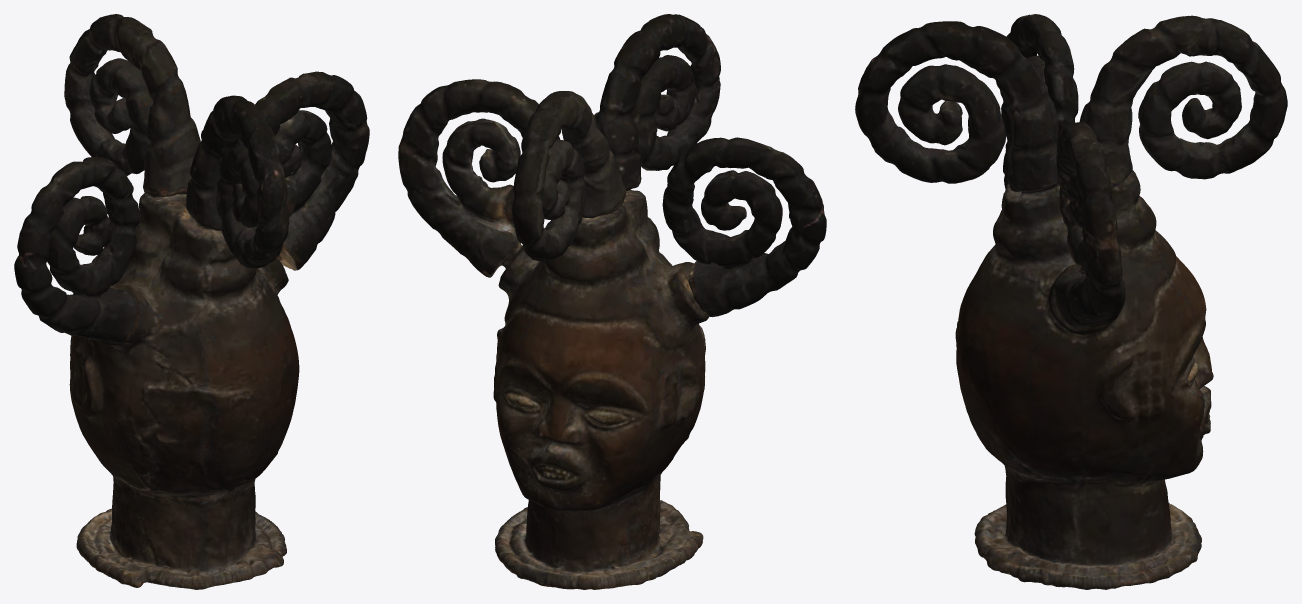
Rendered from preview.glb.
3 views of the same model, side by side, from view 1: azimuth 30°, elevation 25°; view 2: azimuth 150°, elevation 25°; view 3: azimuth 270°, elevation 25° (orthographic). The views are drawn at different scales.
Parts seen in each view (by area): view 1: Object_2; view 2: Object_2; view 3: Object_2.
Part boxes in pixels (x1,y1,x2,y2): Object_2: [14, 14, 369, 589]; Object_2: [398, 14, 826, 589]; Object_2: [855, 14, 1287, 589].
Size of the model in its own units: 585 by 709 by 526.
Materials: 1 (1 with a texture image).
